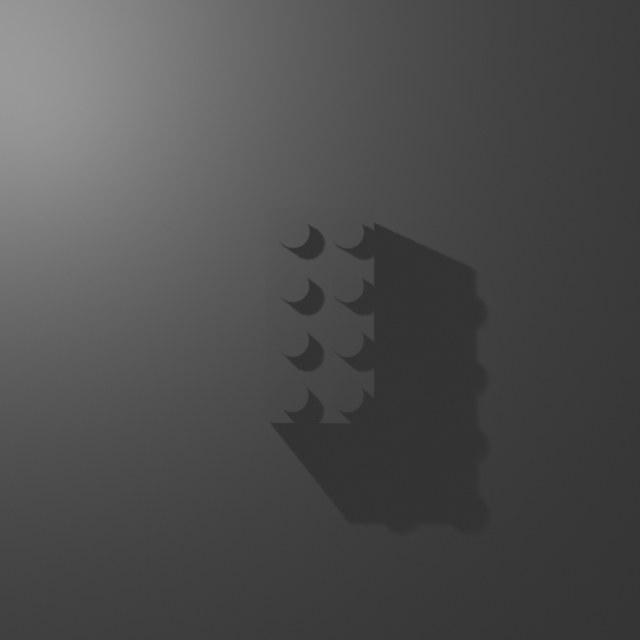lego_2x4: (264, 205, 375, 424)
